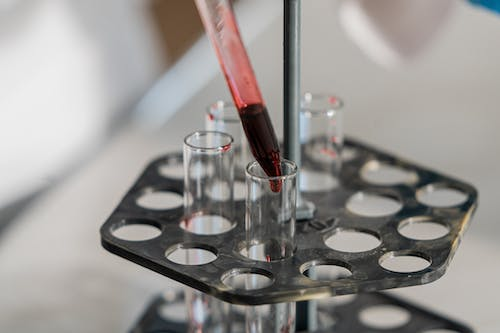blood: (191, 0, 284, 193)
